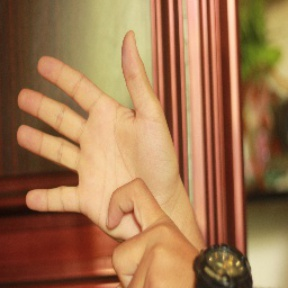R: (14, 26, 205, 286)
